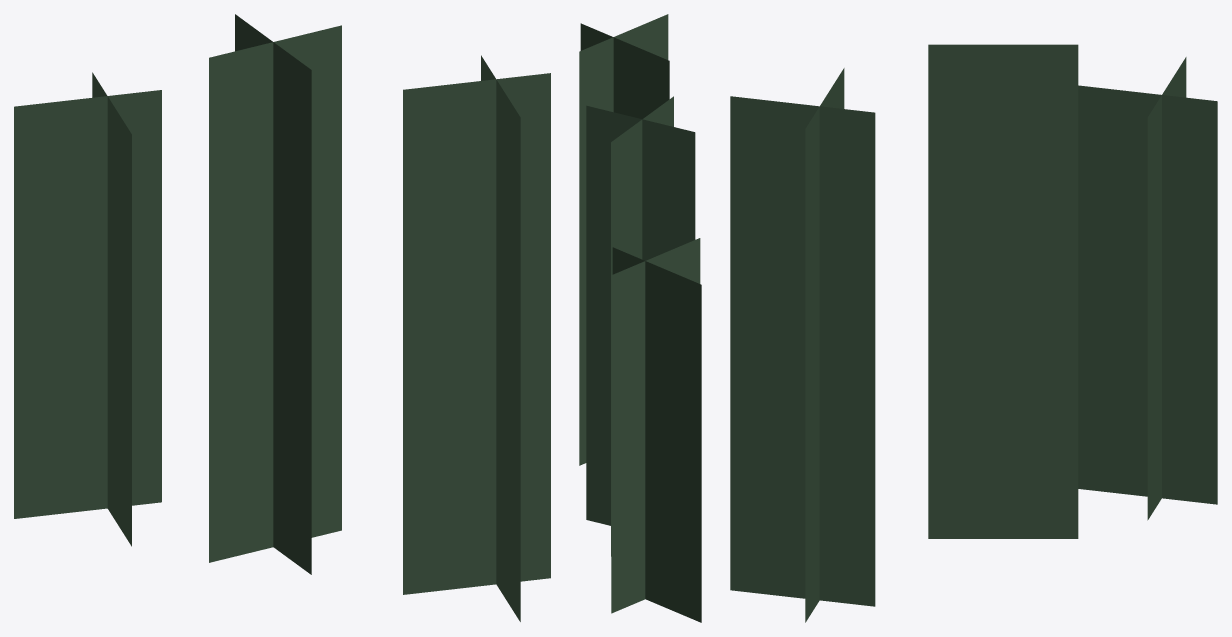
The model's file is MarshGrass1.fbx.
3 views of the same model, side by side, from view 1: azimuth 30°, elevation 25°; view 2: azimuth 150°, elevation 25°; view 3: azimuth 270°, elevation 25° (orthographic). The views are drawn at different scales.
Visible parts, largest first — view 1: Grass1; view 2: Grass1; view 3: Grass1.
Part boxes in pixels (box(x1,y1,x2,y2)): Grass1: box(14, 14, 550, 621); Grass1: box(579, 14, 701, 622); Grass1: box(730, 44, 1217, 622).
Size of the model in its own units: 1.04 by 1.46 by 1.31.
